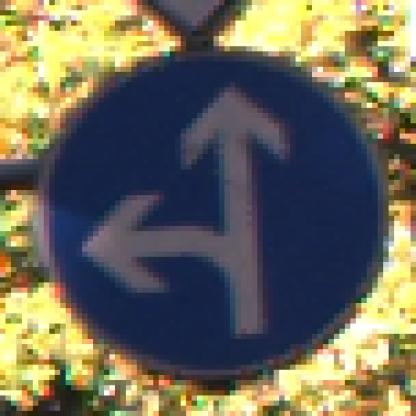Straight or Left: (34, 42, 384, 381)
